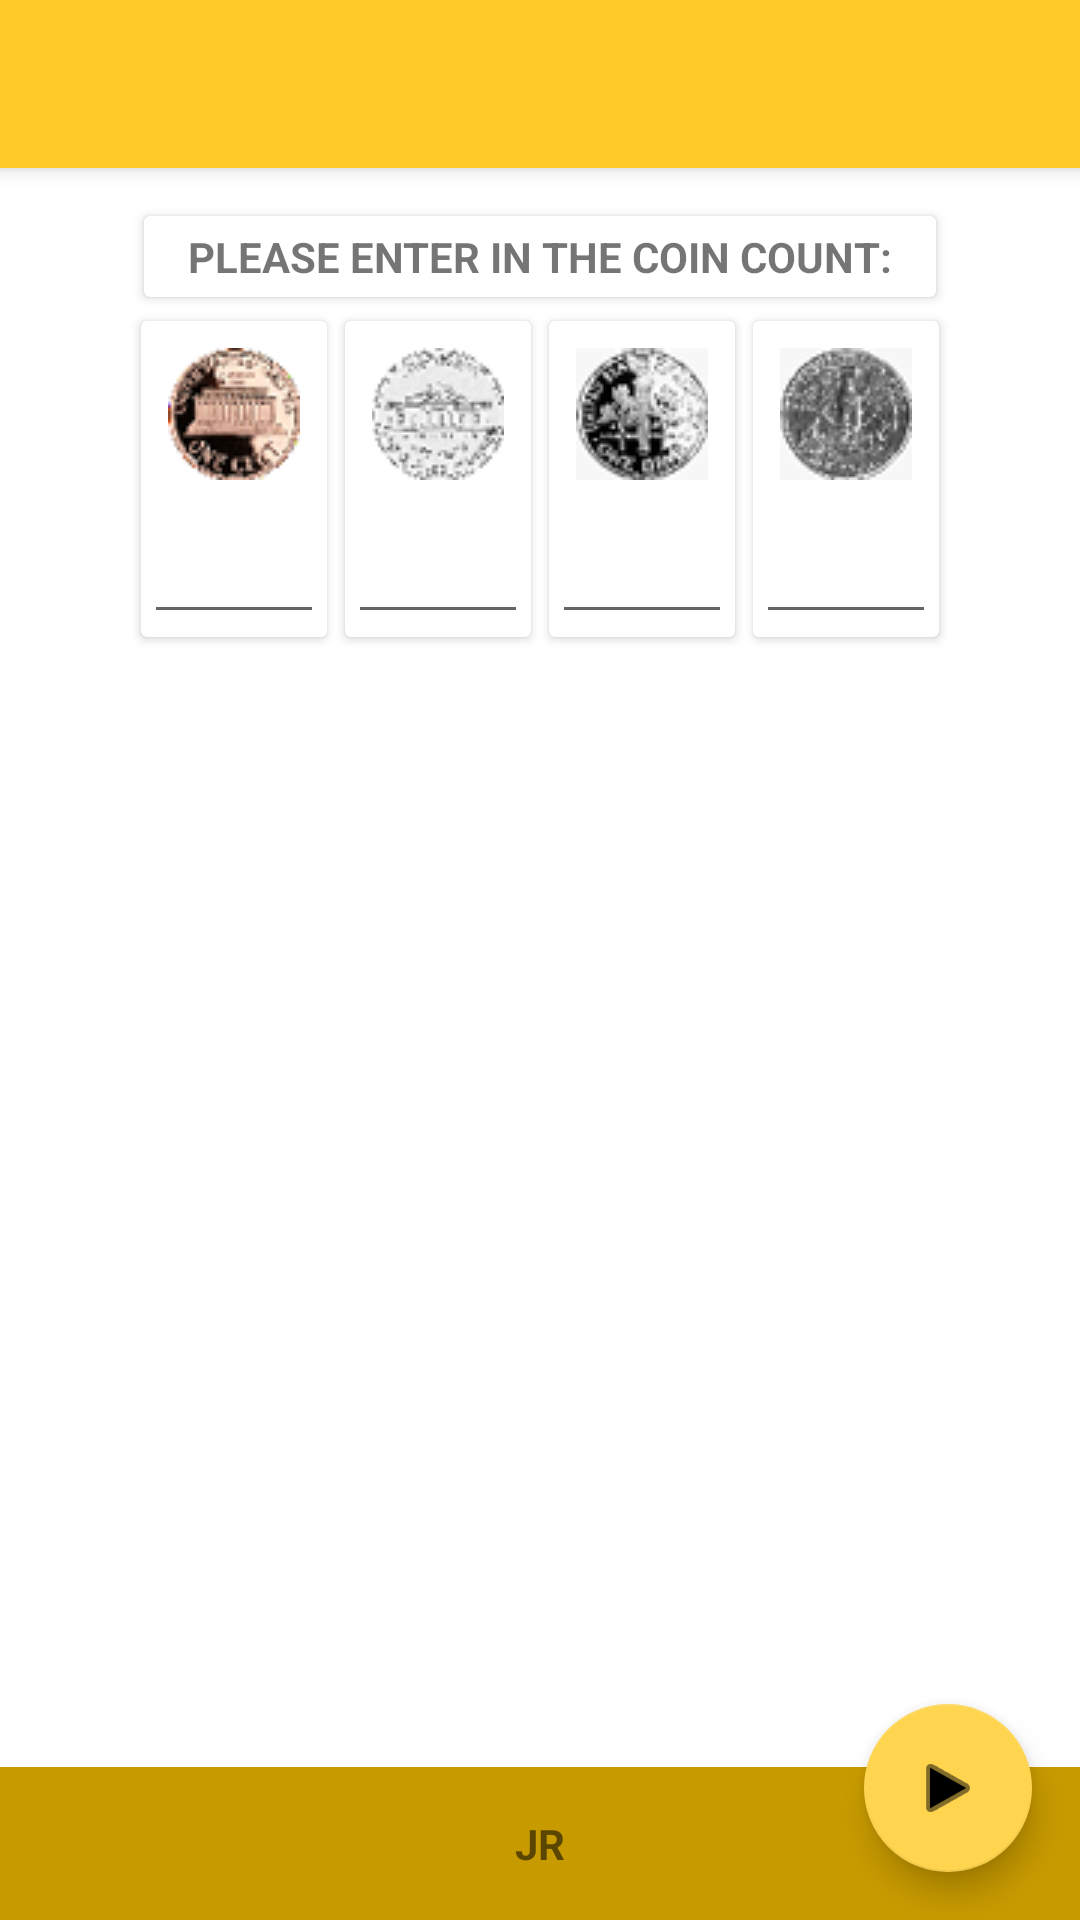

Screen size 1080px x 1920px. Icon name, then its center in pixels as (x=x, y=y):
dime: (x=642, y=414)
nickel: (x=438, y=414)
penny: (x=234, y=414)
play: (x=948, y=1788)
quarter: (x=846, y=414)
